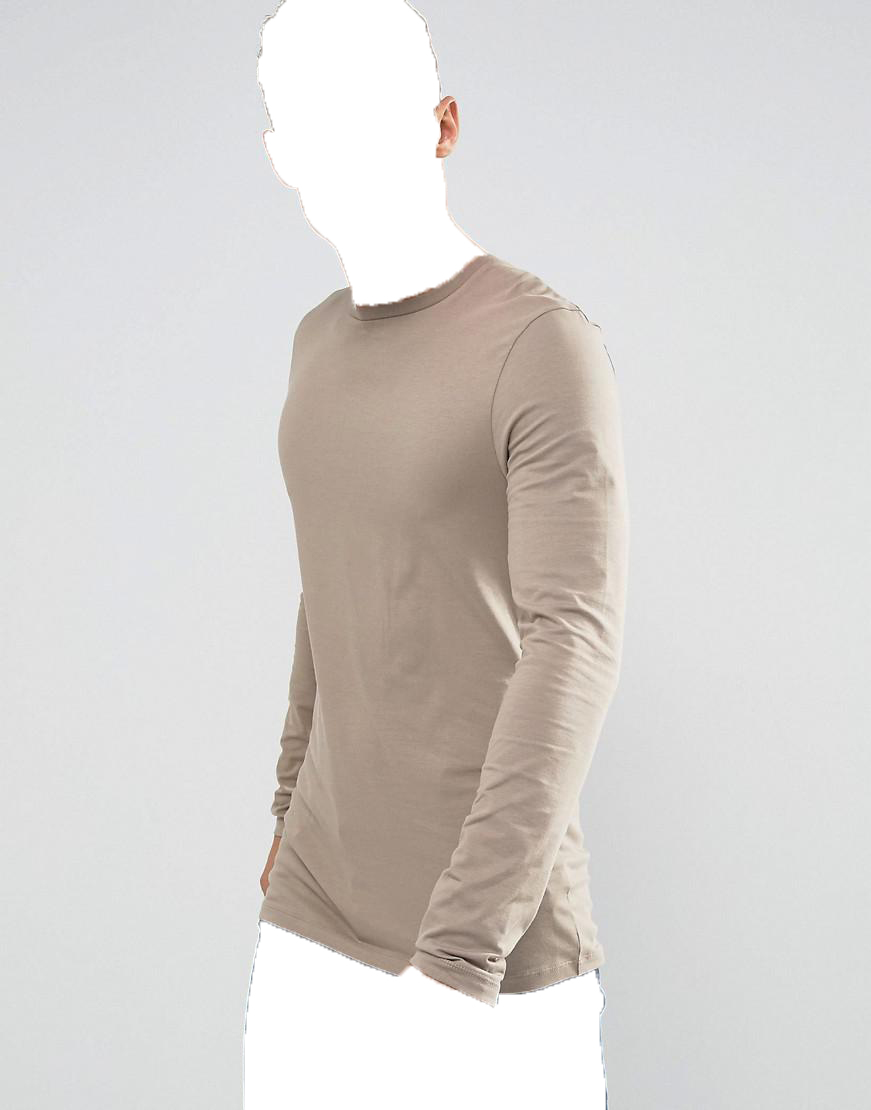teeshirt: (254, 266, 642, 990)
